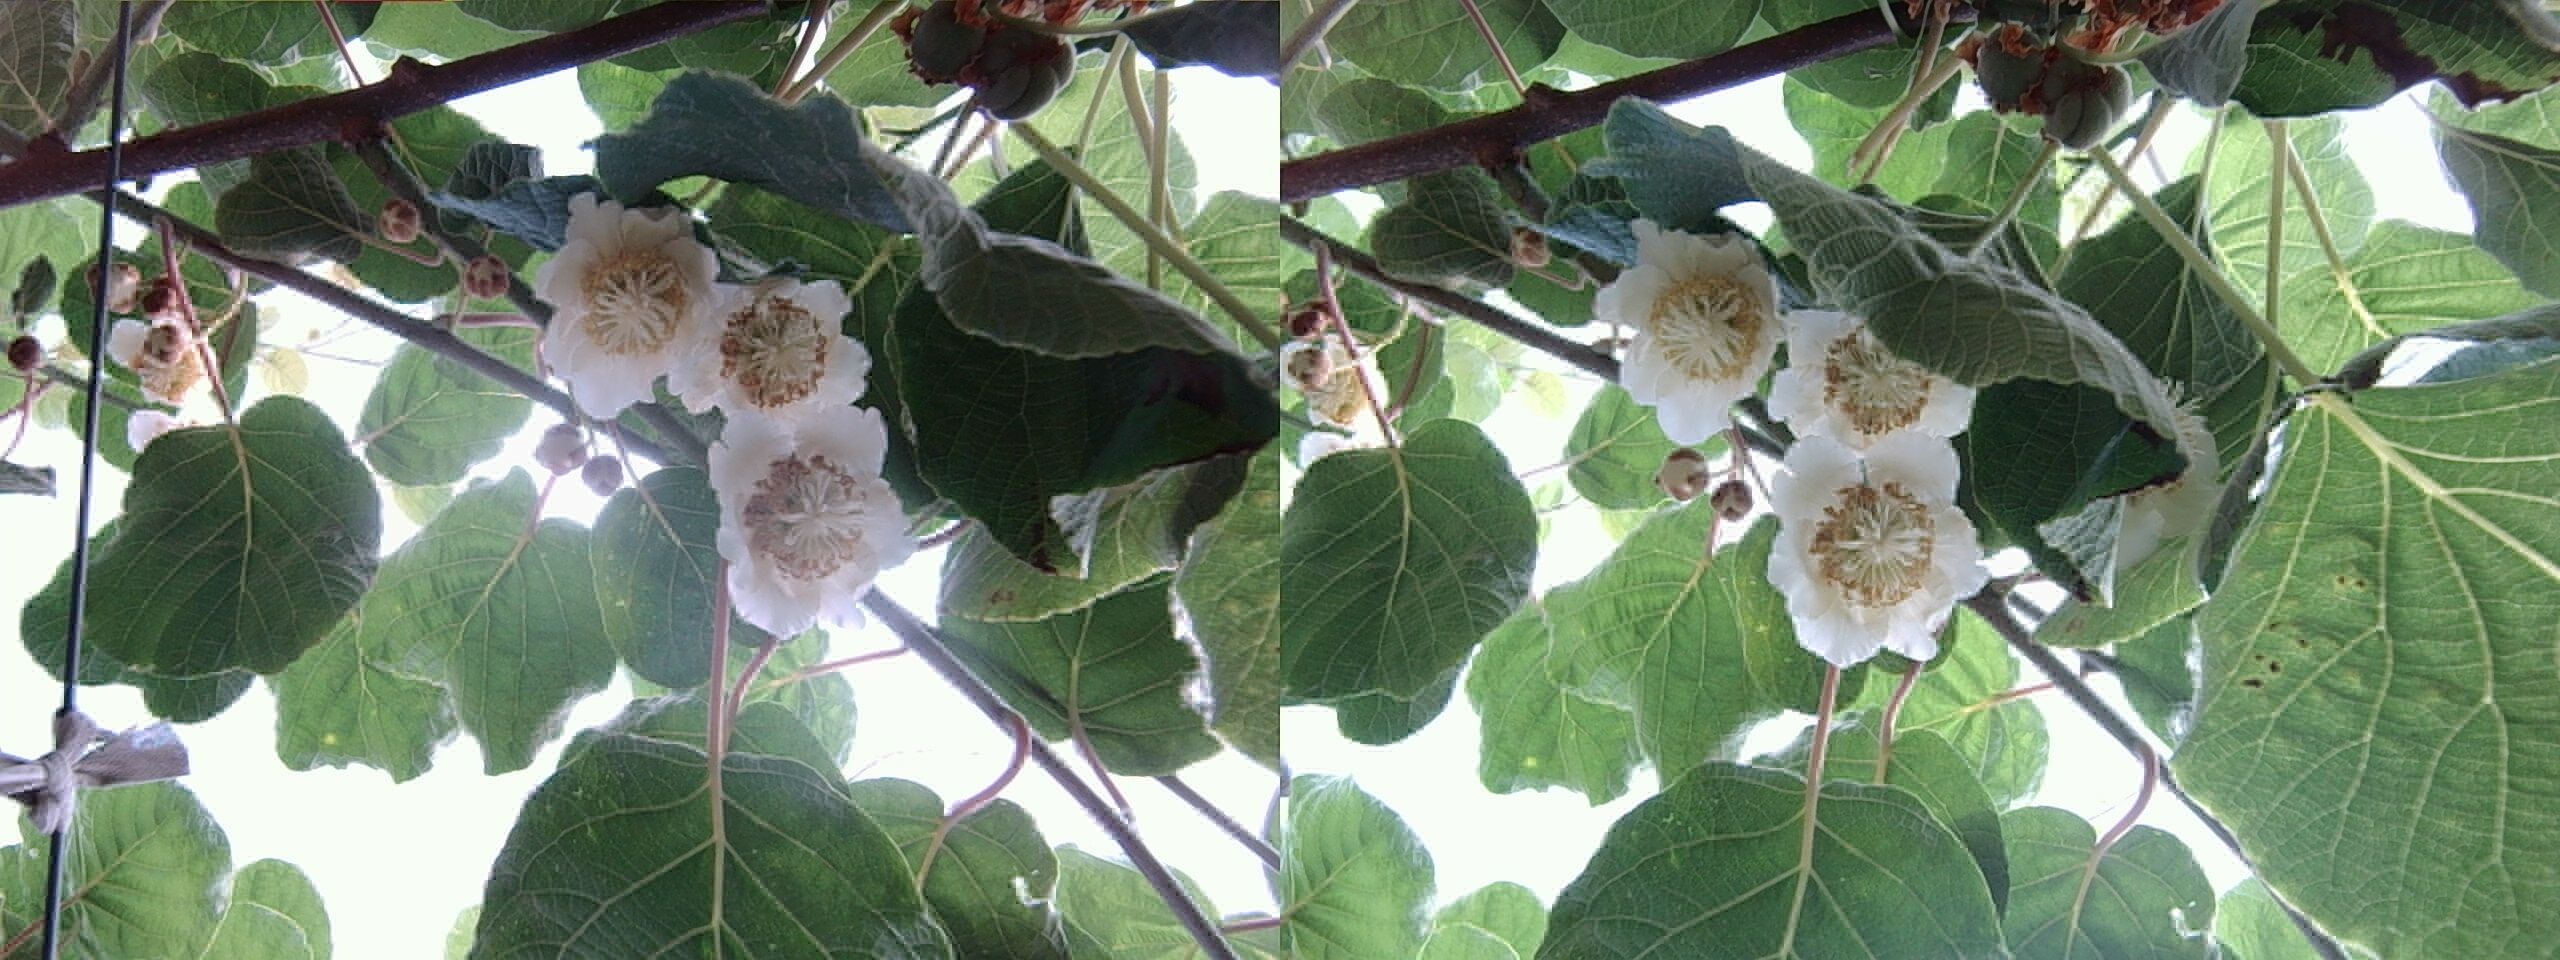flower: (1744, 418, 1990, 673), (696, 382, 929, 632), (1580, 207, 1794, 449), (519, 186, 717, 420), (674, 263, 870, 434), (1771, 315, 1962, 452)
